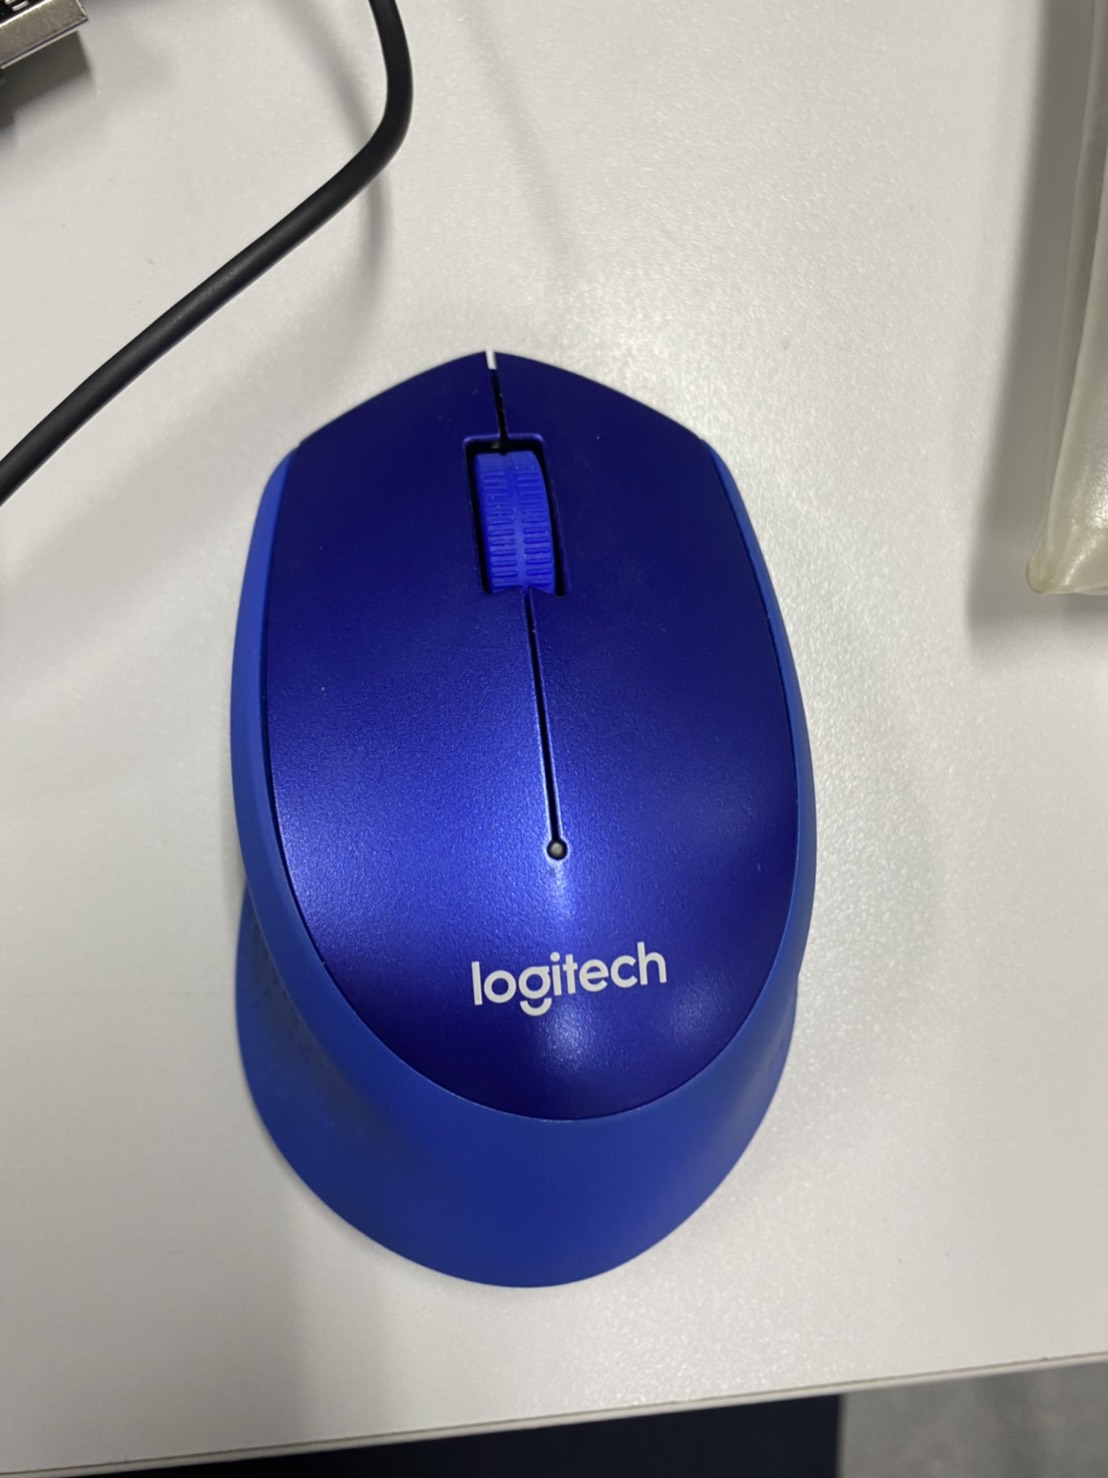mouse: (233, 354, 818, 1294)
